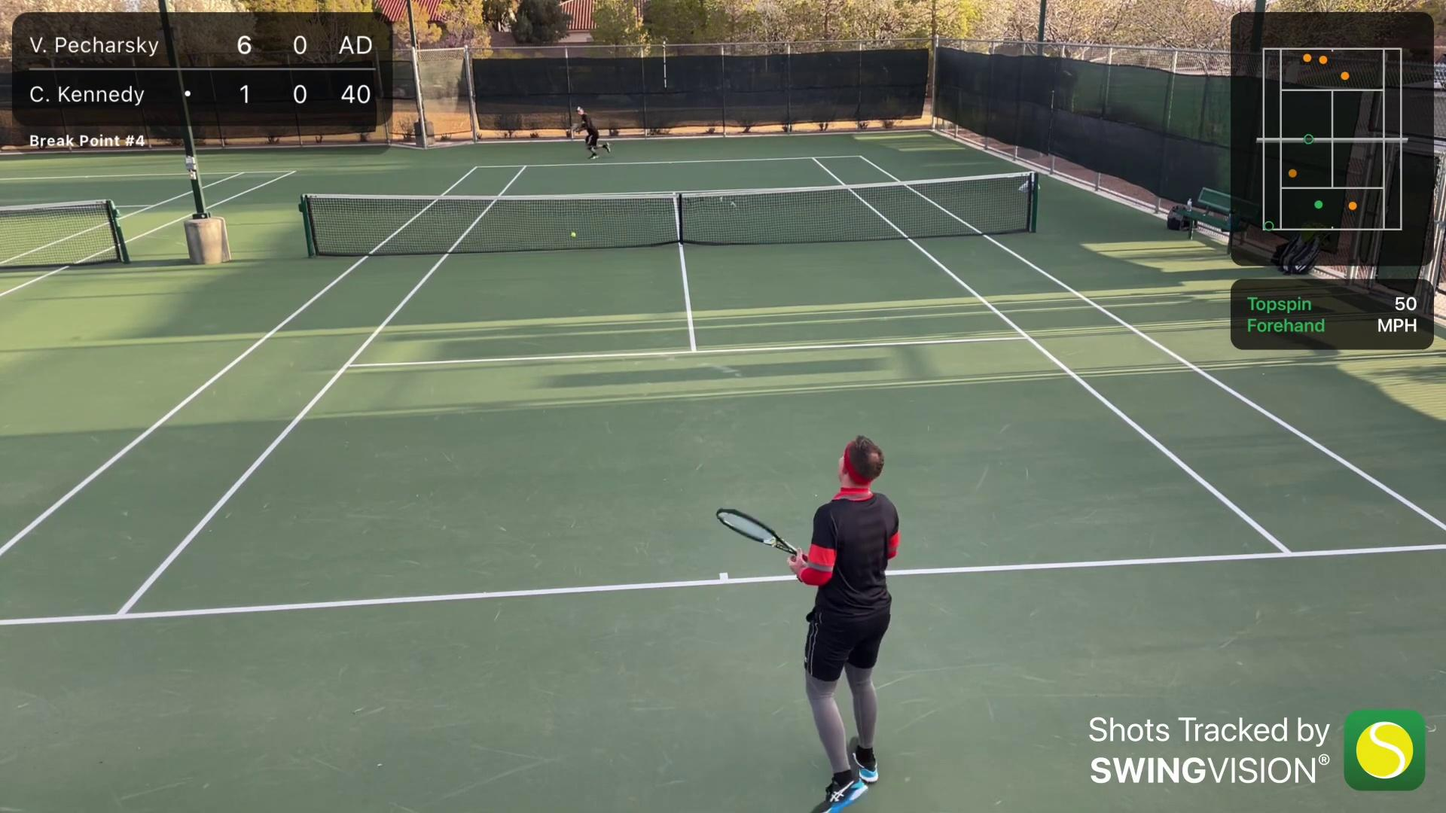ball: (570, 231, 577, 238)
